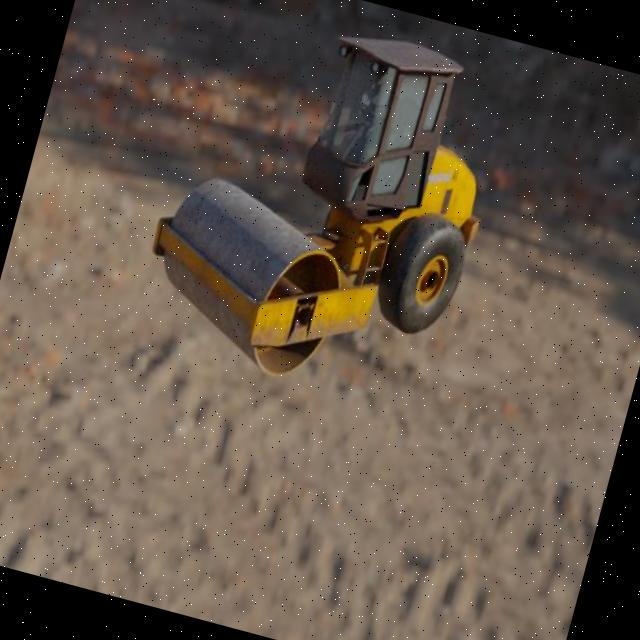Roller: (126, 0, 520, 416)
